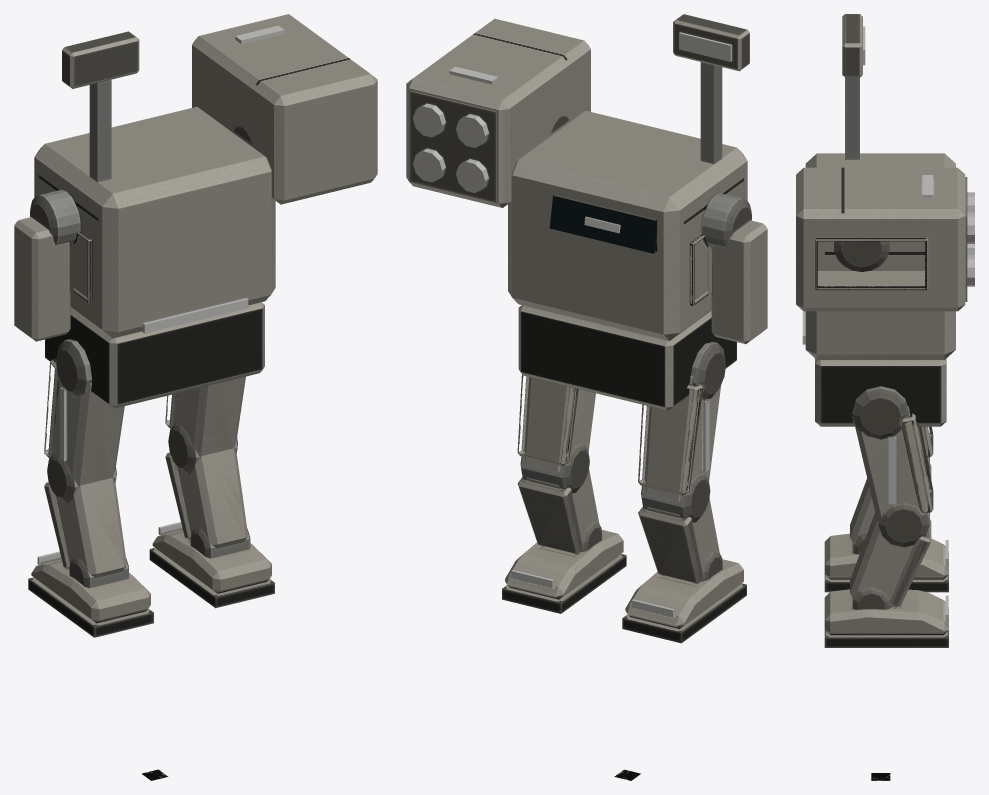
File: ord_kestrel.fbx
3 renders of one model, left to right at view 1: azimuth 30°, elevation 25°; view 2: azimuth 150°, elevation 25°; view 3: azimuth 270°, elevation 25°, orthographic. The views are drawn at different scales.
Visible parts, largest first — view 1: torso_bar, launcher_bar, base_bar, thighL_bar, shinR_bar, shinL_bar, footL_bar, footR_bar, thighR_bar, torso_glow_running_bar; view 2: torso_bar, launcher_bar, base_bar, thighL_bar, thighR_bar, footL_bar, footR_bar, shinL_bar, shinR_bar, torso_glow_running_bar; view 3: launcher_bar, torso_bar, thighR_bar, base_bar, footR_bar, shinR_bar, footL_bar, shinL_bar, thighR_glow_running_bar, thighL_bar.
Boxes of the visible parts, bbox=[...] form: torso_bar: bbox=[14, 31, 275, 341]; launcher_bar: bbox=[192, 14, 377, 204]; base_bar: bbox=[45, 302, 264, 408]; thighL_bar: bbox=[44, 339, 124, 503]; shinR_bar: bbox=[165, 448, 250, 558]; shinL_bar: bbox=[44, 478, 128, 588]; footL_bar: bbox=[28, 559, 153, 637]; footR_bar: bbox=[149, 530, 274, 608]; thighR_bar: bbox=[165, 376, 245, 474]; torso_glow_running_bar: bbox=[142, 298, 248, 333]; torso_bar: bbox=[508, 14, 767, 344]; launcher_bar: bbox=[406, 18, 590, 207]; base_bar: bbox=[518, 305, 736, 410]; thighL_bar: bbox=[638, 342, 725, 522]; thighR_bar: bbox=[517, 374, 595, 493]; footL_bar: bbox=[622, 559, 746, 643]; footR_bar: bbox=[502, 530, 626, 613]; shinL_bar: bbox=[638, 498, 722, 583]; shinR_bar: bbox=[517, 469, 601, 553]; torso_glow_running_bar: bbox=[679, 32, 731, 61]; launcher_bar: bbox=[796, 167, 974, 311]; torso_bar: bbox=[805, 14, 955, 359]; thighR_bar: bbox=[852, 386, 933, 547]; base_bar: bbox=[815, 358, 946, 426]; footR_bar: bbox=[824, 589, 948, 647]; shinR_bar: bbox=[850, 512, 931, 609]; footL_bar: bbox=[824, 533, 948, 592]; shinL_bar: bbox=[850, 464, 931, 554]; thighR_glow_running_bar: bbox=[888, 437, 896, 504]; thighL_bar: bbox=[917, 426, 933, 477].
Bounding box in the file's own units: 367 × 840 × 190.
Materials: 2 (2 with a texture image).
